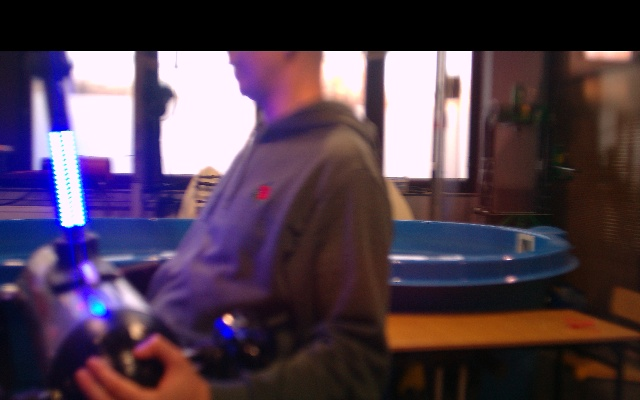blue: (48, 129, 89, 228)
